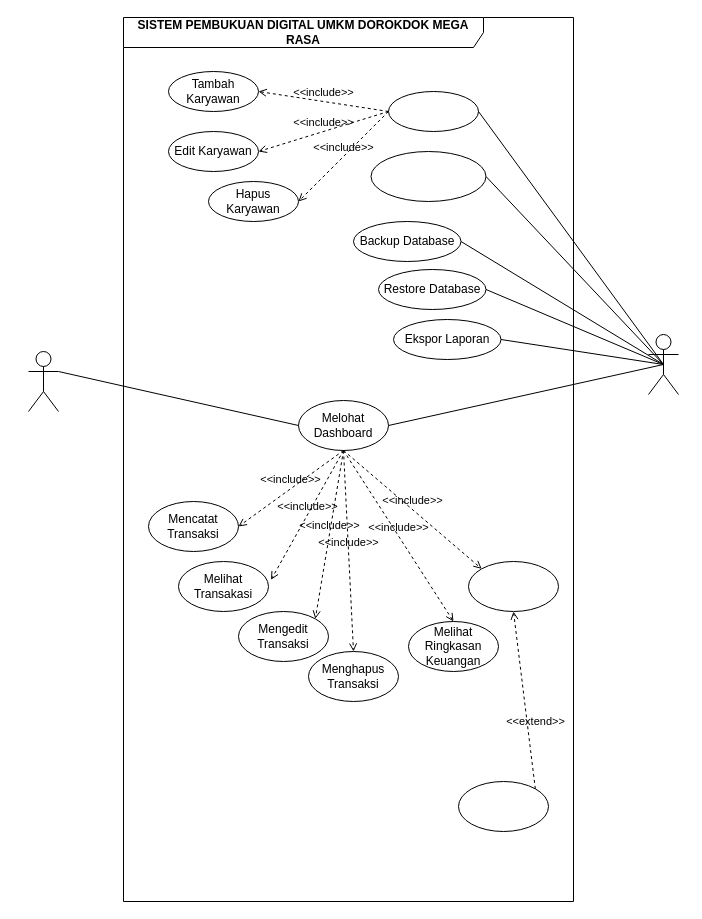
Some shapes in this 702 by 919 pixel diagram are drawn without their labels. Each missing label, with the centre of its shape:
"Filter Periode" belongs at (503,806).
"Karyawan" belongs at (43,381).
"Kelola Akun Karyawan" belongs at (433,111).
"Melihat Pengelompokan Transaksi" belongs at (513,586).
"Melihat Riwayat Aktivitas" belongs at (428,176).
"Pemilik (Admin)" belongs at (663,364).
